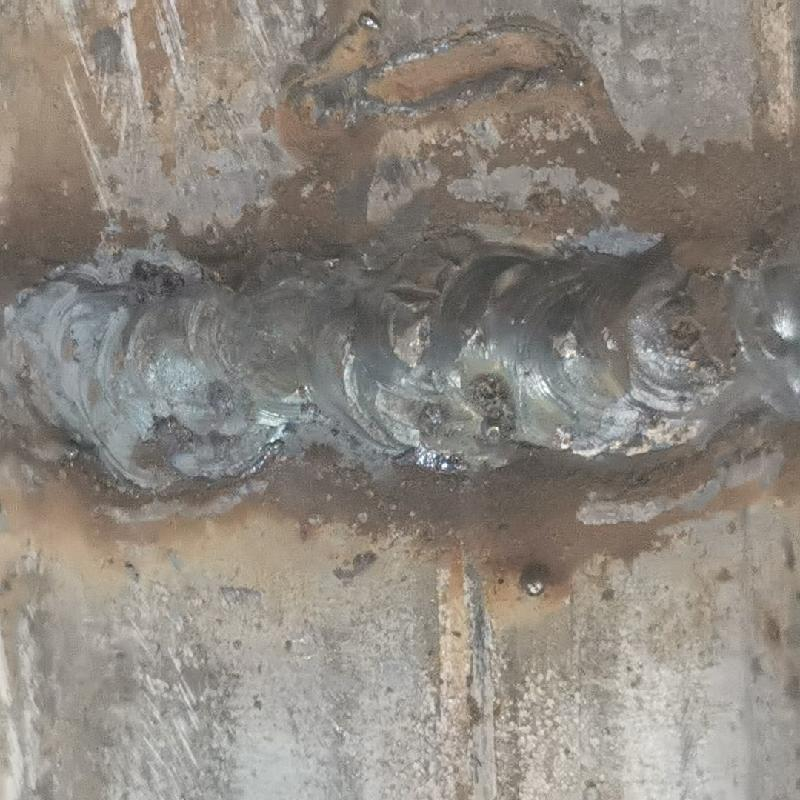good: (4, 242, 799, 481)
